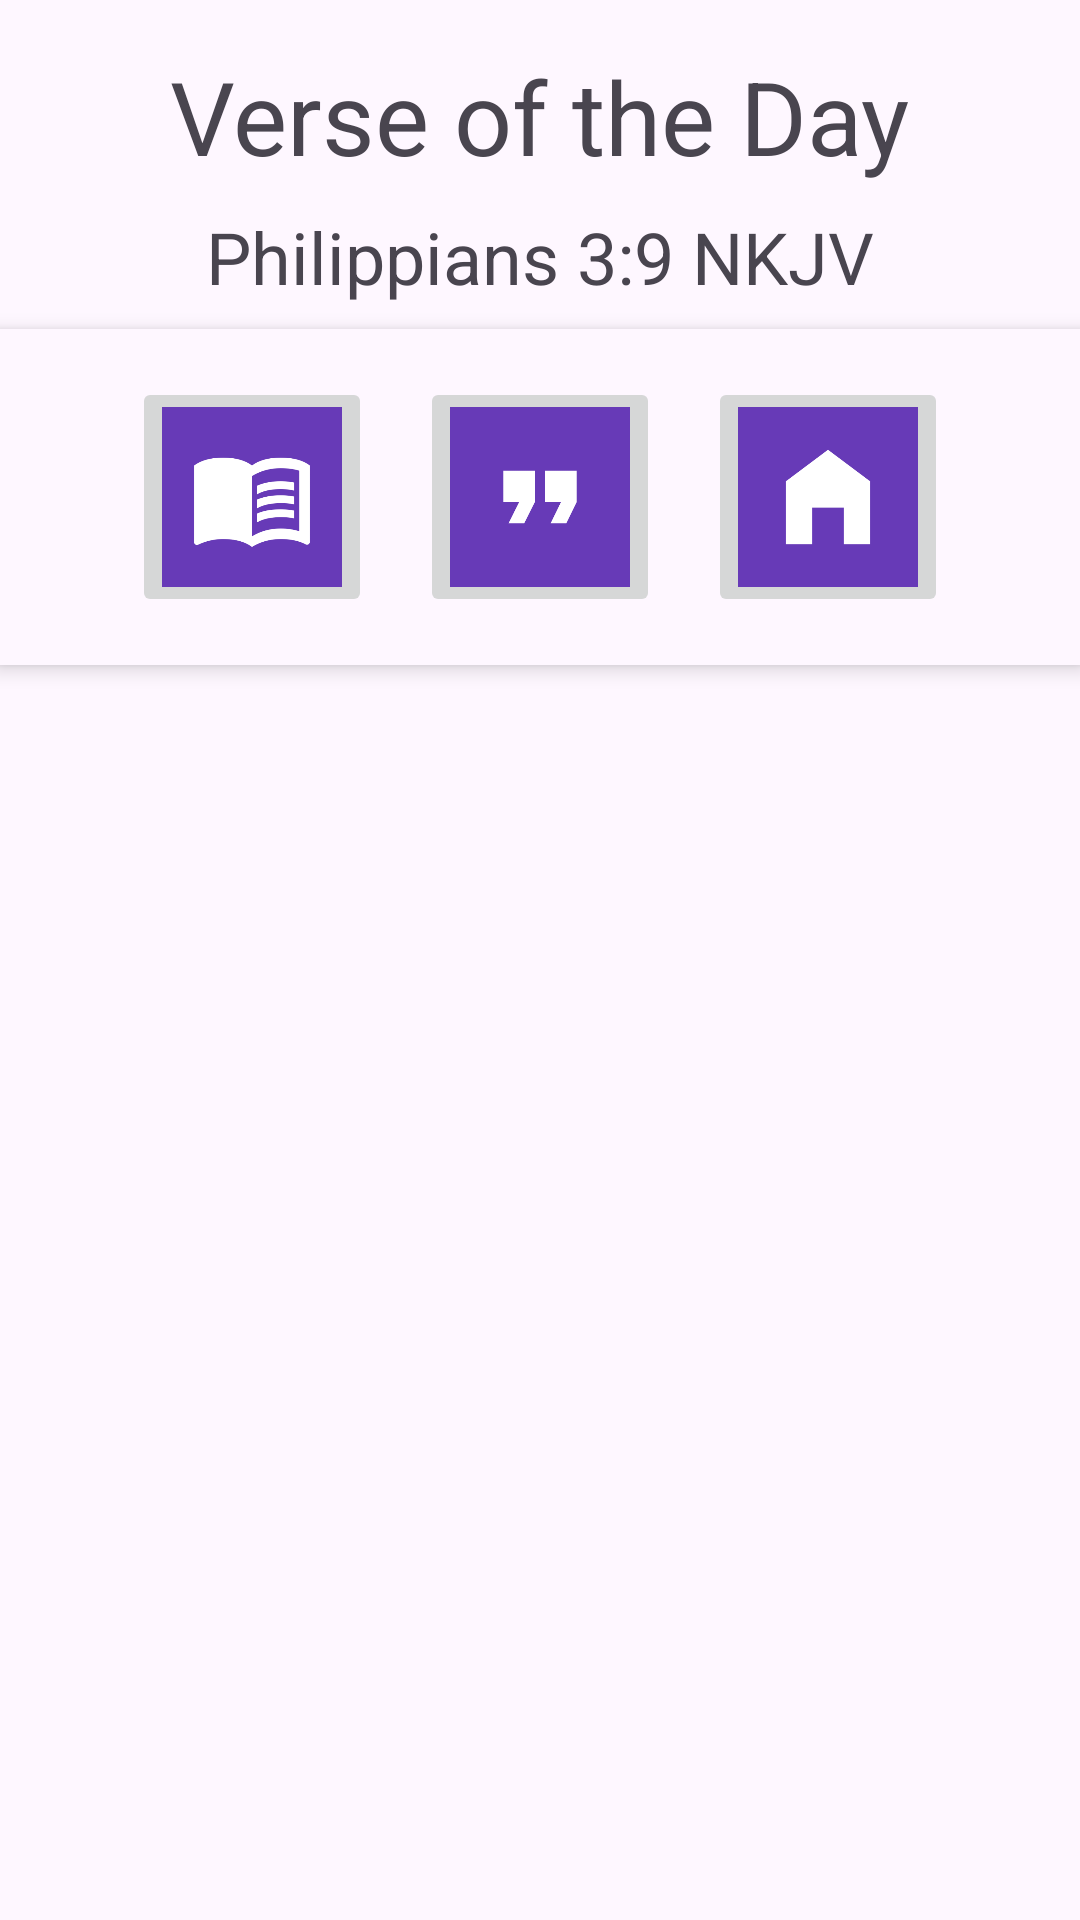

Icons on this 1080*1920 Android screen, each with its box as [left=x1, top=y1, right=x2, bottom=y2]:
Home: [left=720, top=395, right=936, bottom=599]
View Chapter: [left=144, top=395, right=360, bottom=599]
View Verse: [left=432, top=395, right=648, bottom=599]
